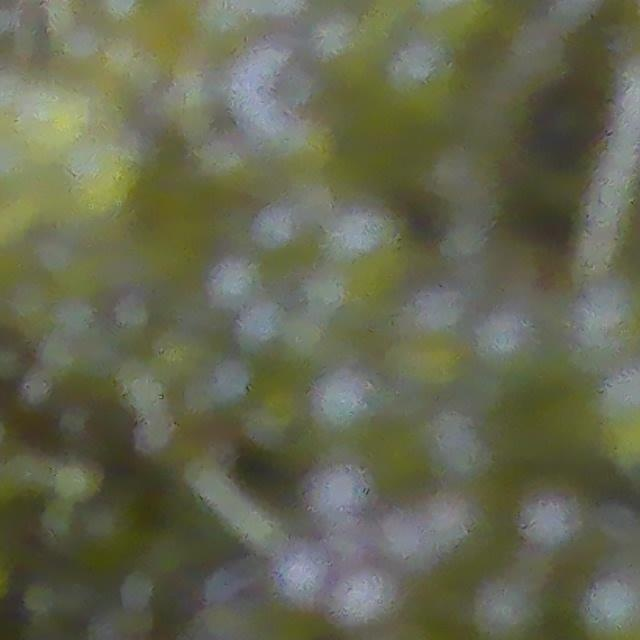SeaGrape: (383, 35, 461, 121), (466, 576, 549, 640), (313, 366, 378, 434)
